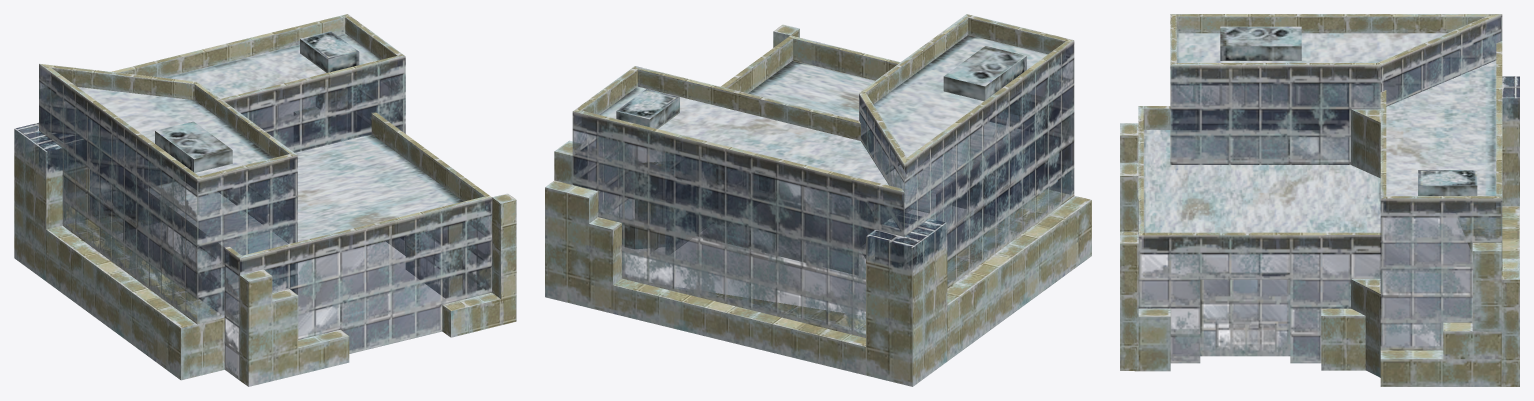
Rendered from Civilian - Civilian Building - office 01 SN - Snow and Night - CBoffice01_SN.glb.
The picture shows the model from 3 angles, left to right: view 1: azimuth 30°, elevation 25°; view 2: azimuth 150°, elevation 25°; view 3: azimuth 270°, elevation 25°; orthographic projection. The views are drawn at different scales.
Visible parts, largest first — view 1: CBOFFICE01_SN; view 2: CBOFFICE01_SN; view 3: CBOFFICE01_SN.
Part boxes in pixels (x1,y1,x2,y2): CBOFFICE01_SN: (14,14,516,386); CBOFFICE01_SN: (545,14,1091,386); CBOFFICE01_SN: (1120,14,1519,386).
Size of the model in its own units: 132 by 72.51 by 127.
Materials: 1 (1 with a texture image).
